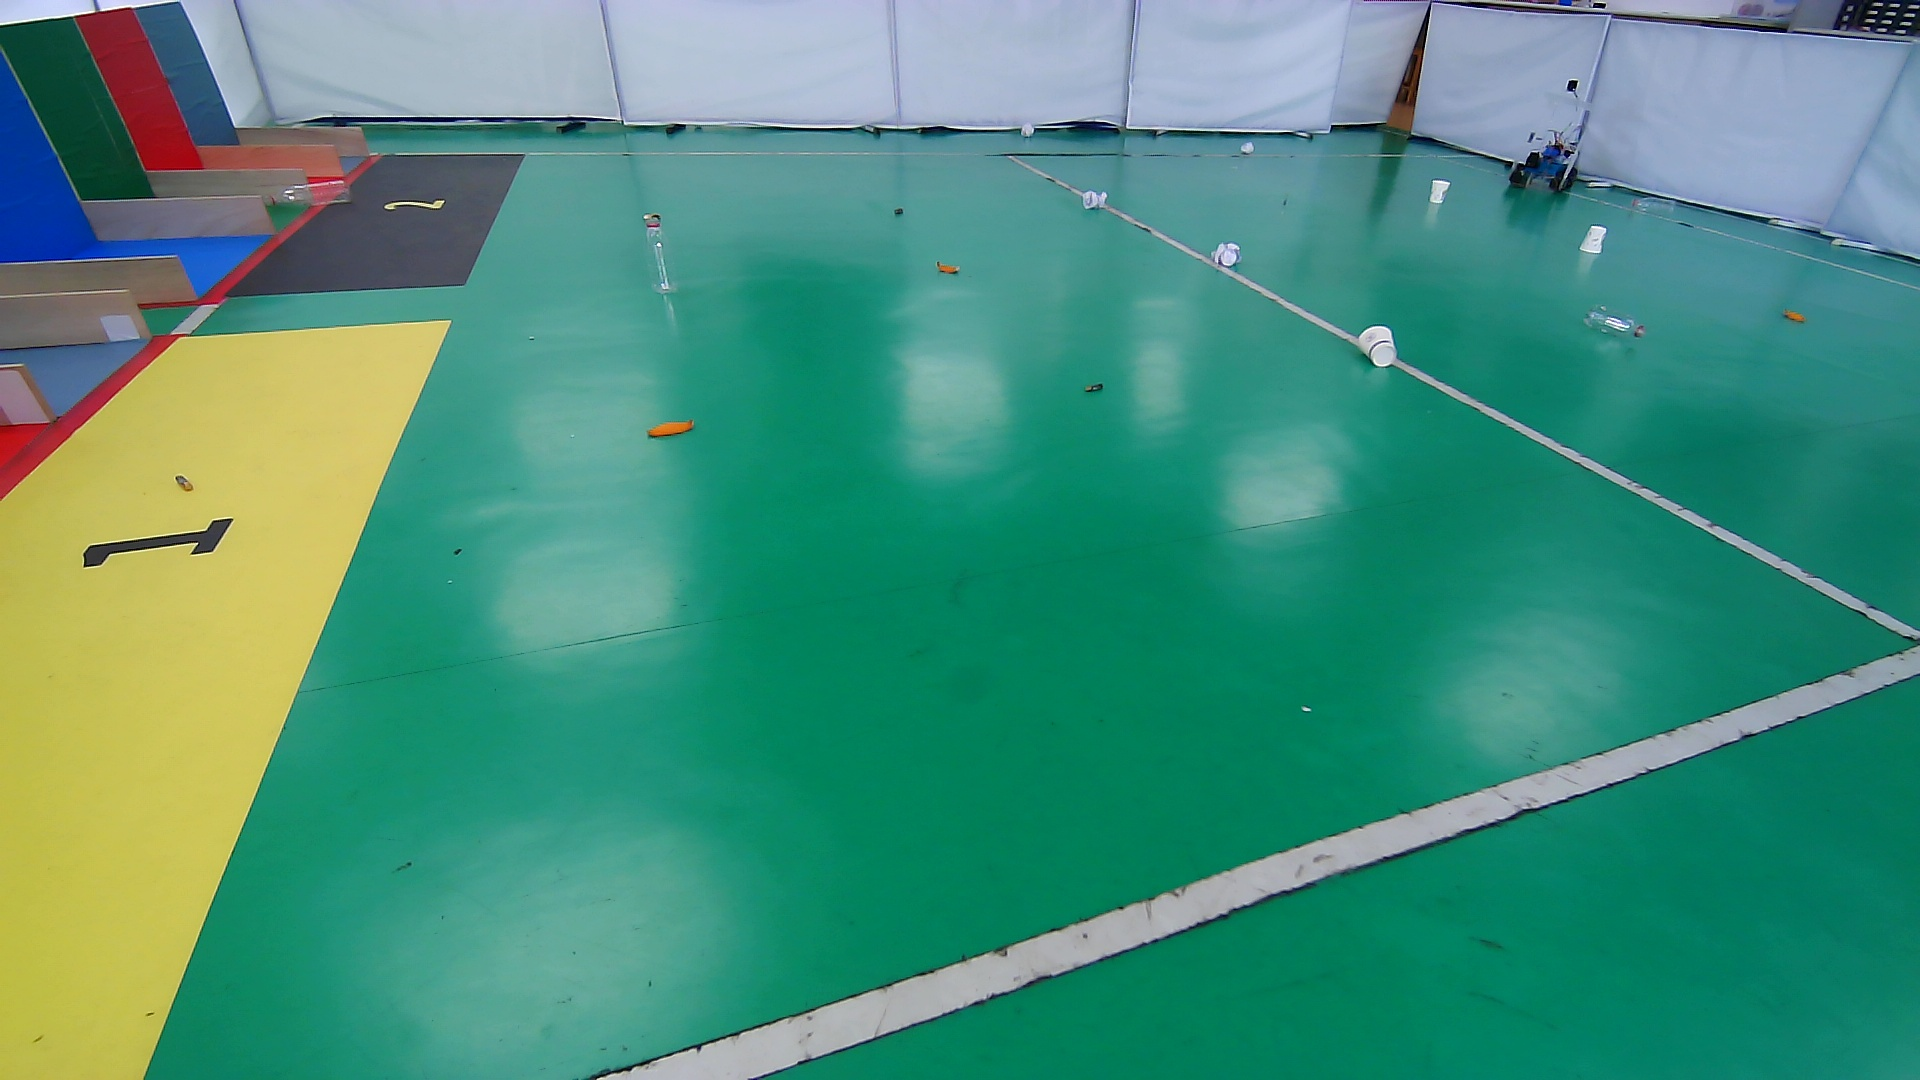battery: (170, 469, 196, 493), (1081, 378, 1106, 397), (889, 203, 909, 222)
bottle: (640, 219, 684, 298), (261, 177, 355, 214), (1578, 302, 1648, 343), (1629, 193, 1681, 218)
orangepeel: (644, 413, 698, 443), (934, 257, 965, 280), (1779, 306, 1809, 326)
papercup: (1356, 320, 1400, 371), (1575, 222, 1609, 258), (1425, 175, 1453, 207)
spitball: (1208, 239, 1244, 272), (1079, 189, 1112, 214), (1018, 117, 1036, 140), (1237, 138, 1258, 157)
